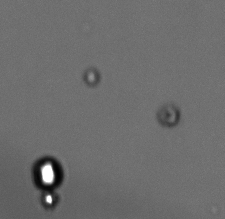Dead Cell: (159, 104, 179, 126)
Living Cell: (33, 156, 64, 190), (83, 67, 101, 86), (41, 191, 57, 209)
